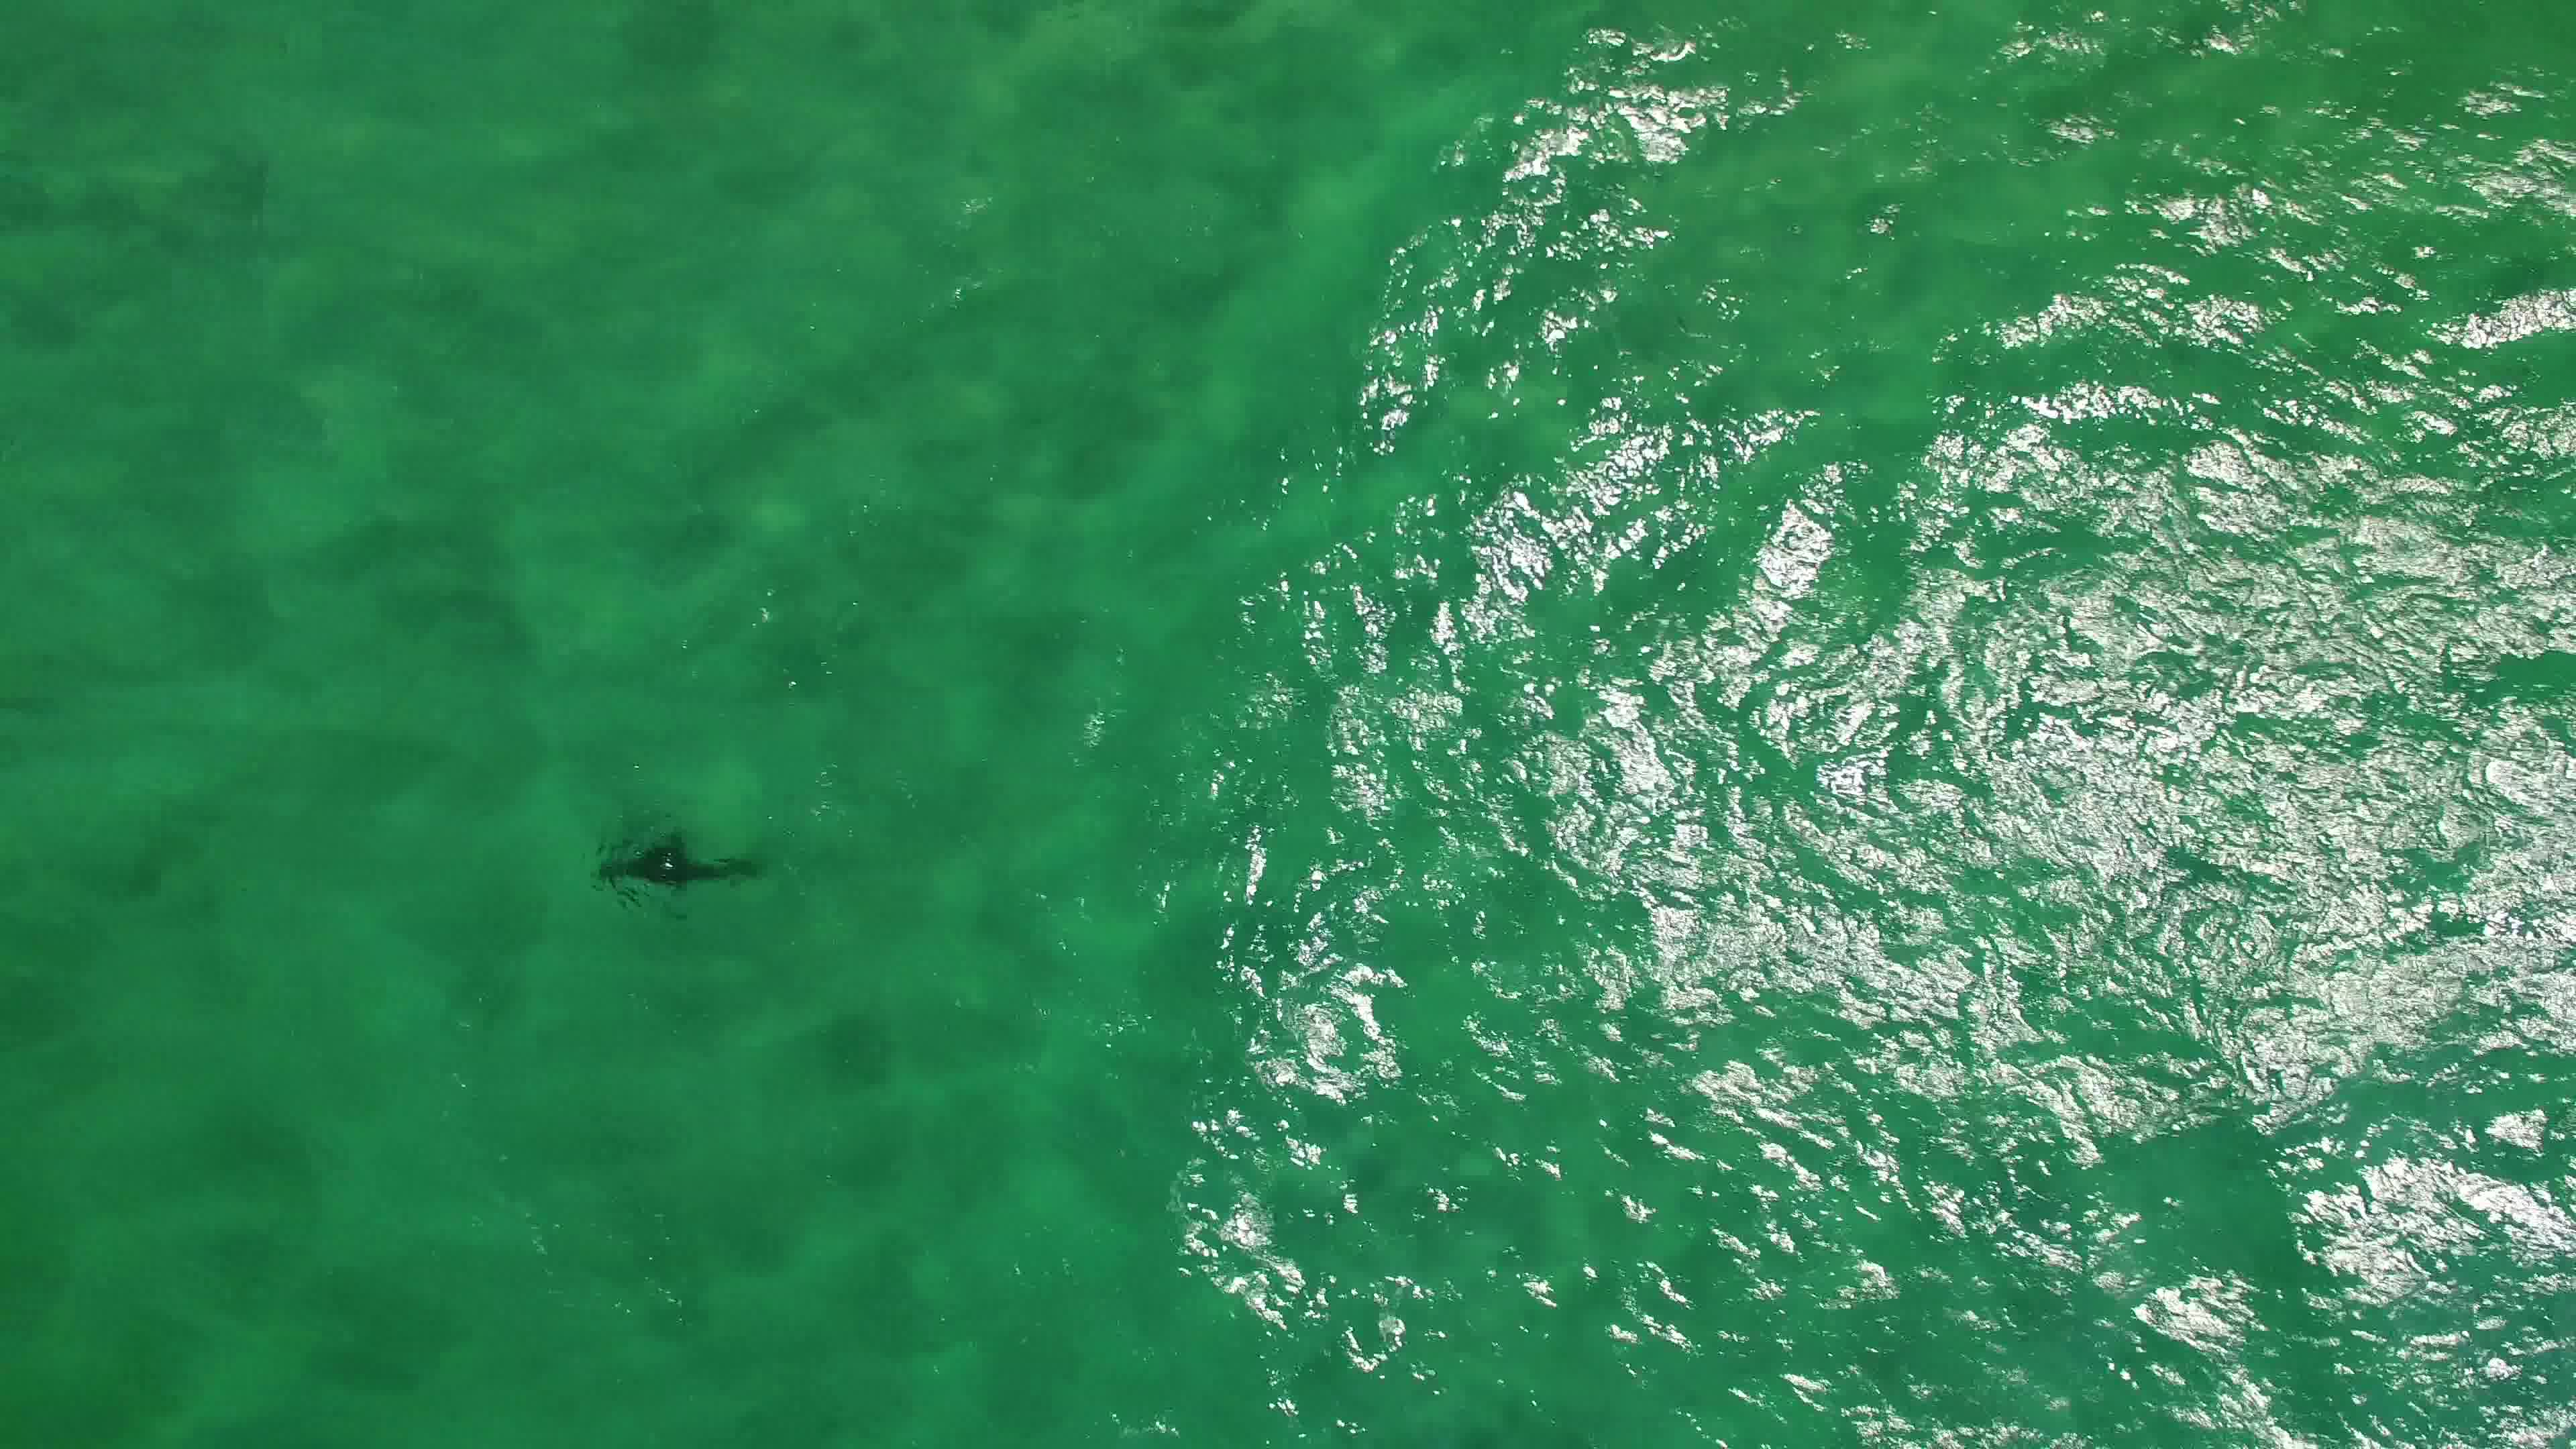shark: (593, 823, 766, 902)
